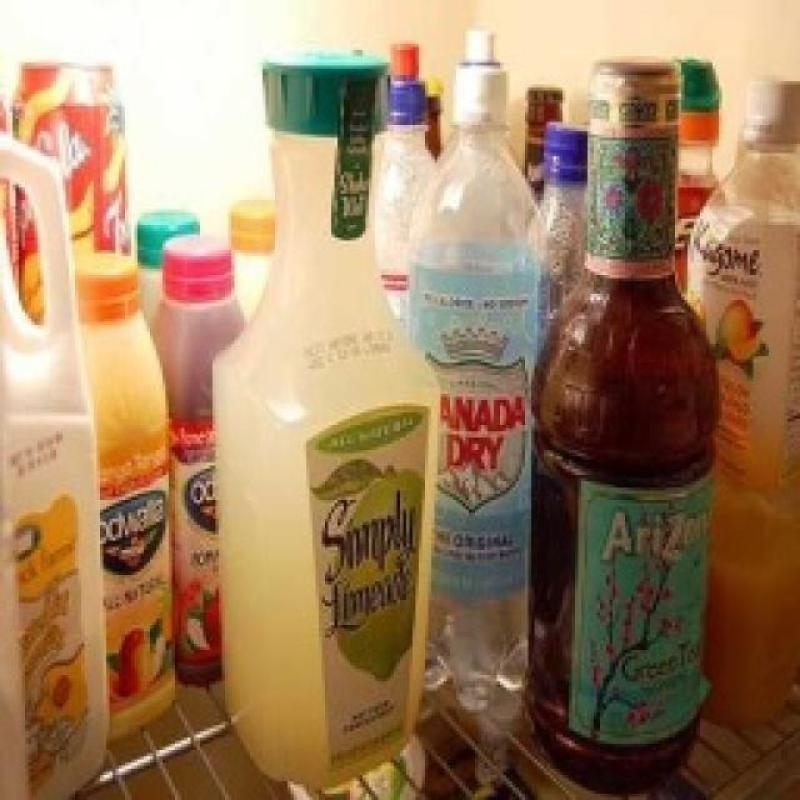botella: (411, 64, 546, 720), (367, 75, 423, 306), (538, 125, 598, 310)
